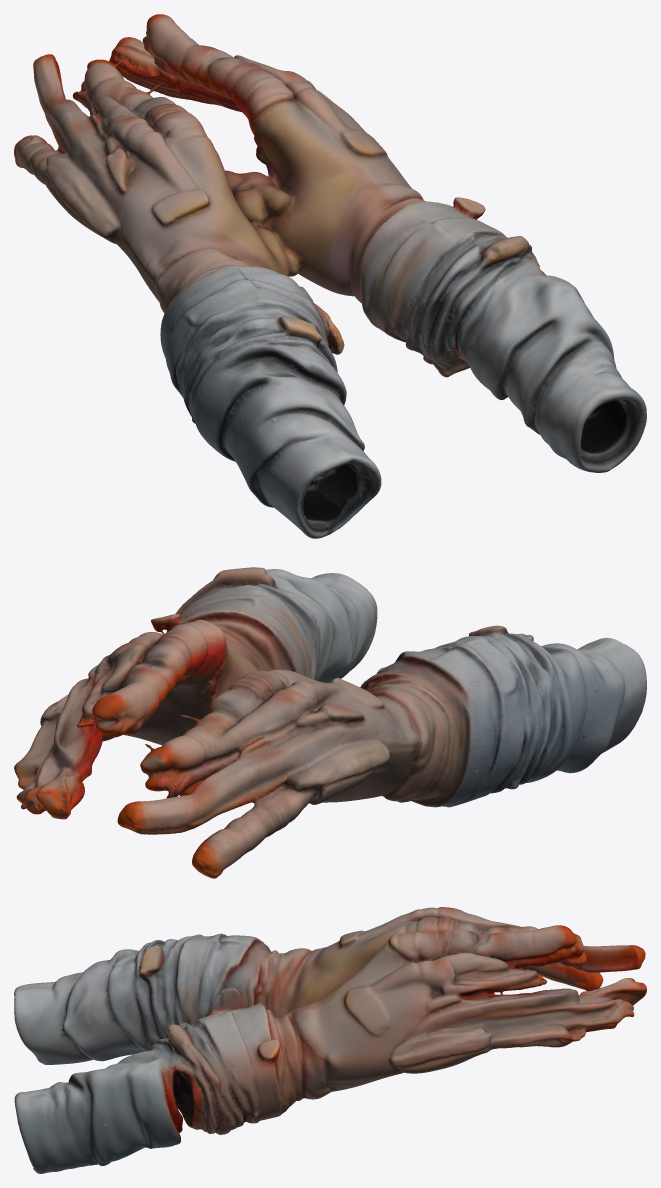
Rendered from hands_fps.glb.
3 renders of one model, top to bottom at view 1: azimuth 30°, elevation 25°; view 2: azimuth 150°, elevation 25°; view 3: azimuth 270°, elevation 25°, orthographic. The views are drawn at different scales.
Bounding box in the file's own units: 1.11 × 0.6944 × 2.
Materials: 1 (1 with a texture image).
